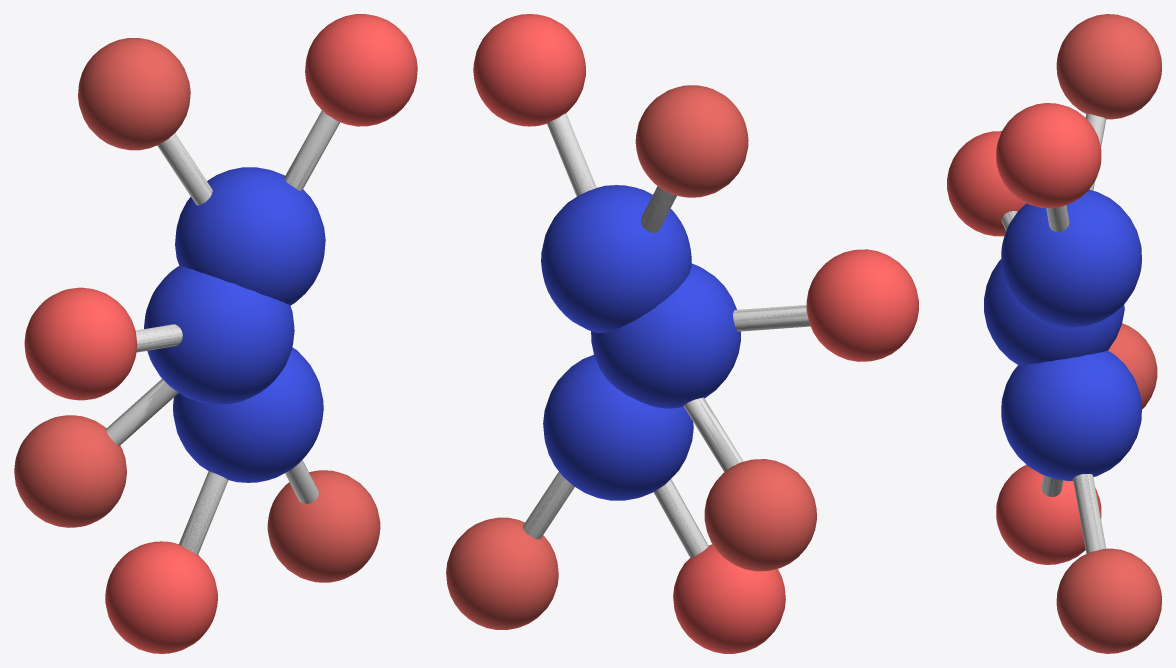
Rendered from complex-h2o.glb.
3 renders of one model, left to right at view 1: azimuth 30°, elevation 25°; view 2: azimuth 150°, elevation 25°; view 3: azimuth 270°, elevation 25°, orthographic. The views are drawn at different scales.
Visible parts, largest first — view 1: Sphere.001, Sphere.004, Sphere.009, Sphere.007, Sphere.002, Sphere.003, Sphere.006, Sphere.005, Sphere.008, Cylinder.002, Cylinder.005, Cylinder.004 (+5 smaller); view 2: Sphere.001, Sphere.009, Sphere.004, Sphere.002, Sphere.005, Sphere.007, Sphere.003, Sphere.008, Sphere.006, Cylinder.005, Cylinder.002, Cylinder.010 (+5 smaller); view 3: Sphere.009, Sphere.001, Sphere.003, Sphere.008, Sphere.002, Sphere.006, Sphere.004, Sphere.007, Sphere.005, Cylinder.003, Cylinder.001, Cylinder.005 (+2 smaller).
Boxes of the visible parts, x1,y1,x2,y2 form: Sphere.001: (175, 167, 325, 305); Sphere.004: (144, 266, 294, 404); Sphere.009: (173, 347, 323, 482); Sphere.007: (24, 287, 137, 400); Sphere.002: (78, 38, 190, 150); Sphere.003: (305, 14, 417, 126); Sphere.006: (105, 541, 217, 653); Sphere.005: (14, 415, 126, 527); Sphere.008: (267, 470, 380, 582); Cylinder.002: (179, 471, 228, 554); Cylinder.005: (286, 110, 339, 190); Cylinder.004: (157, 133, 212, 205); Sphere.001: (541, 185, 691, 332); Sphere.009: (543, 355, 693, 500); Sphere.004: (591, 263, 740, 408); Sphere.002: (635, 85, 748, 197); Sphere.005: (704, 459, 816, 571); Sphere.007: (806, 249, 918, 361); Sphere.003: (473, 14, 585, 126); Sphere.008: (446, 517, 558, 630); Sphere.006: (673, 544, 785, 653); Cylinder.005: (548, 113, 596, 196); Cylinder.002: (654, 479, 707, 557); Cylinder.010: (733, 305, 810, 331); Sphere.009: (1001, 350, 1141, 480); Sphere.001: (1001, 189, 1141, 327); Sphere.003: (996, 103, 1101, 208); Sphere.008: (1056, 548, 1161, 653); Sphere.002: (1056, 14, 1161, 119); Sphere.006: (996, 465, 1101, 564); Sphere.004: (984, 259, 1124, 365); Sphere.007: (947, 131, 1026, 236); Sphere.005: (1108, 323, 1157, 409); Cylinder.003: (1073, 474, 1106, 553); Cylinder.001: (1073, 474, 1104, 551); Cylinder.005: (1046, 205, 1069, 231).
Bounding box in the file's own units: 71.23 × 97.8 × 35.05.
